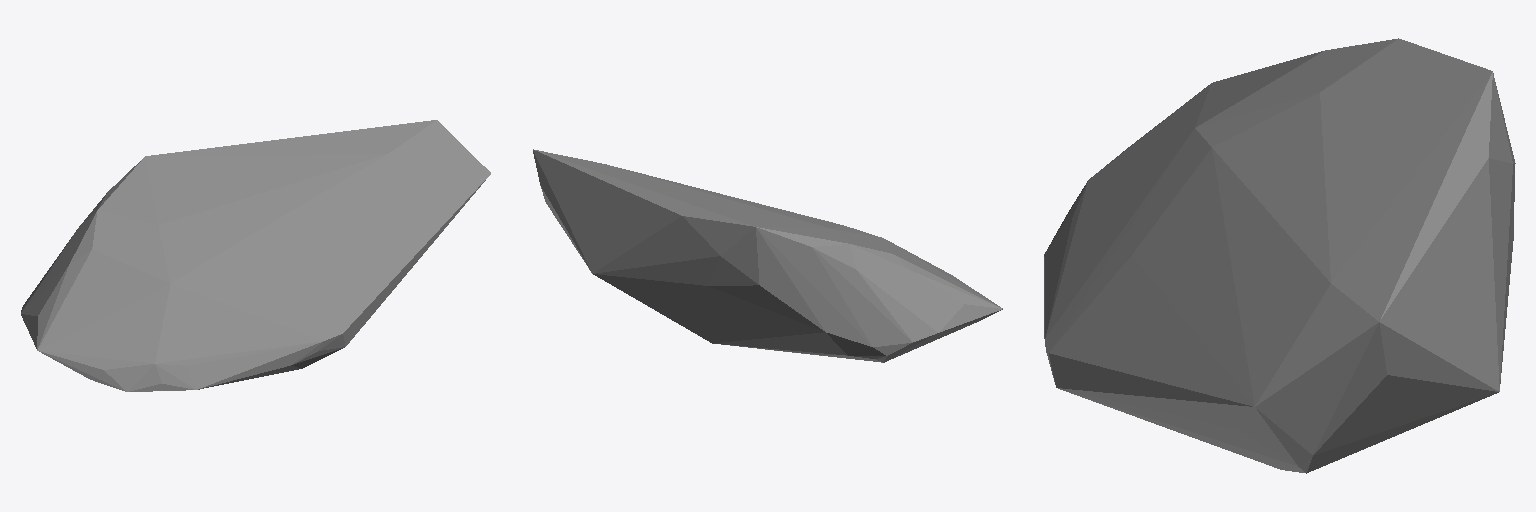
The robot description file, URDF, robot "45_194":
<?xml version="1.0"?>
<robot name="45_194">
  <link name="link">
    <contact>
      <lateral_friction value="0.6"/>
    </contact>
    <inertial>
      <origin xyz="-0.001810689565979619 0.0037824105854492767 -0.0026106292076272623" rpy="0 0 0"/>
      <mass value = "0.17477081260928537"/>
      <inertia ixx="3.295884773993136e-05" ixy="5.130910920048317e-06" ixz="8.85135127292185e-06" iyy="0.00010730578884106966" iyz="5.880451266068544e-06" izz="0.00012078769187643537" />
    </inertial>
    <visual name="visual">
      <geometry>
        <mesh filename="45_194.obj"/>
      </geometry>
      <material name="material">
        <color rgba="0.5748128524084716 0.5748128524084716 0.5748128524084716 1.0"/>
      </material>
    </visual>
    <collision name="collision">
      <geometry>
        <mesh filename="45_194.obj"/>
      </geometry>
    </collision>
  </link>
</robot>

--- Facts derived from the render (not from the file) ---
Views: 3 orthographic renders of the robot side by side, from view 1: azimuth 30°, elevation 25°; view 2: azimuth 150°, elevation 25°; view 3: azimuth 270°, elevation 25°.
Model 45_194 with 1 links and 0 joints (none), rooted at link, posed every joint at zero.
Links seen in each view (by area): view 1: link; view 2: link; view 3: link.
Link boxes in pixels (x1,y1,x2,y2): link: (21, 120, 490, 391); link: (533, 149, 1002, 362); link: (1044, 38, 1515, 473).
Bounding box of the posed robot: 0.112 × 0.052 × 0.0323 m (x, y, z).
1 mesh visuals loaded from 1 distinct referenced files (1 OBJ).
